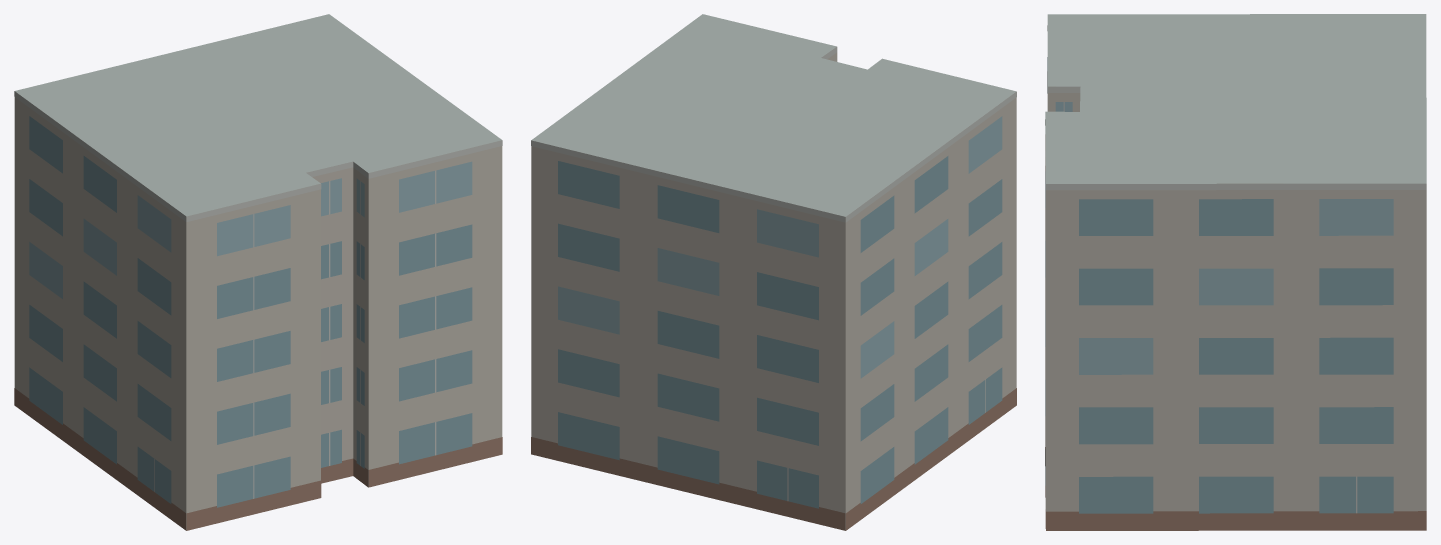
Rendered from survey-upis-32954222.glb.
3 renders of one model, left to right at view 1: azimuth 30°, elevation 25°; view 2: azimuth 150°, elevation 25°; view 3: azimuth 270°, elevation 25°, orthographic. The views are drawn at different scales.
Visible parts, largest first — view 1: survey-upis-32954222.tmp; view 2: survey-upis-32954222.tmp; view 3: survey-upis-32954222.tmp.
Boxes of the visible parts, bbox=[...] form: survey-upis-32954222.tmp: bbox=[14, 14, 502, 530]; survey-upis-32954222.tmp: bbox=[531, 14, 1016, 530]; survey-upis-32954222.tmp: bbox=[1045, 14, 1426, 530].
Size of the model in its own units: 13.99 by 13.3 by 13.27.
